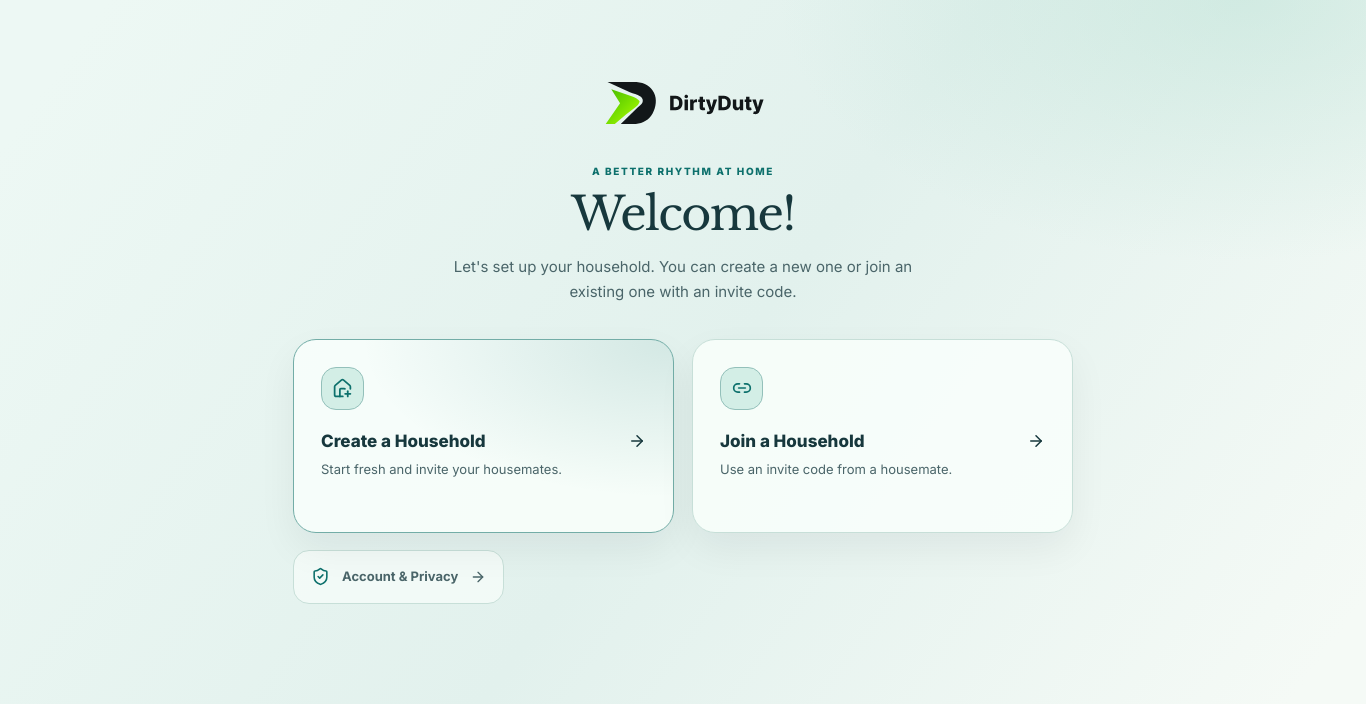
Test: household onboarding › creates a household and opens the invitation dialog in the light theme
The image size is (1366, 704).
Expected: the heading "Welcome!" is shown, left=571, top=185, right=795, bottom=242
Click the button "Create a Household Start fresh and invite your housemates.": click(484, 436) left=293, top=338, right=674, bottom=532
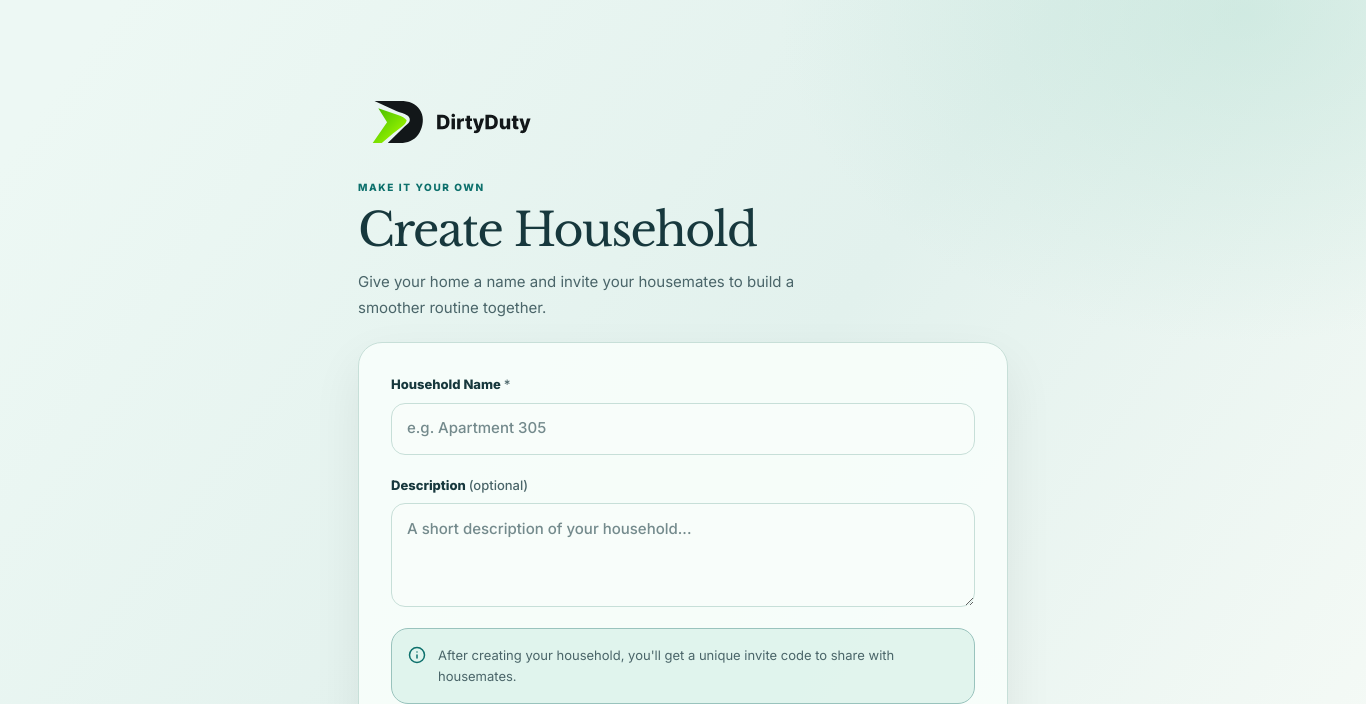
In the field labelled "Household Name *": (683, 429) left=391, top=403, right=975, bottom=455, type "  Our Place  "
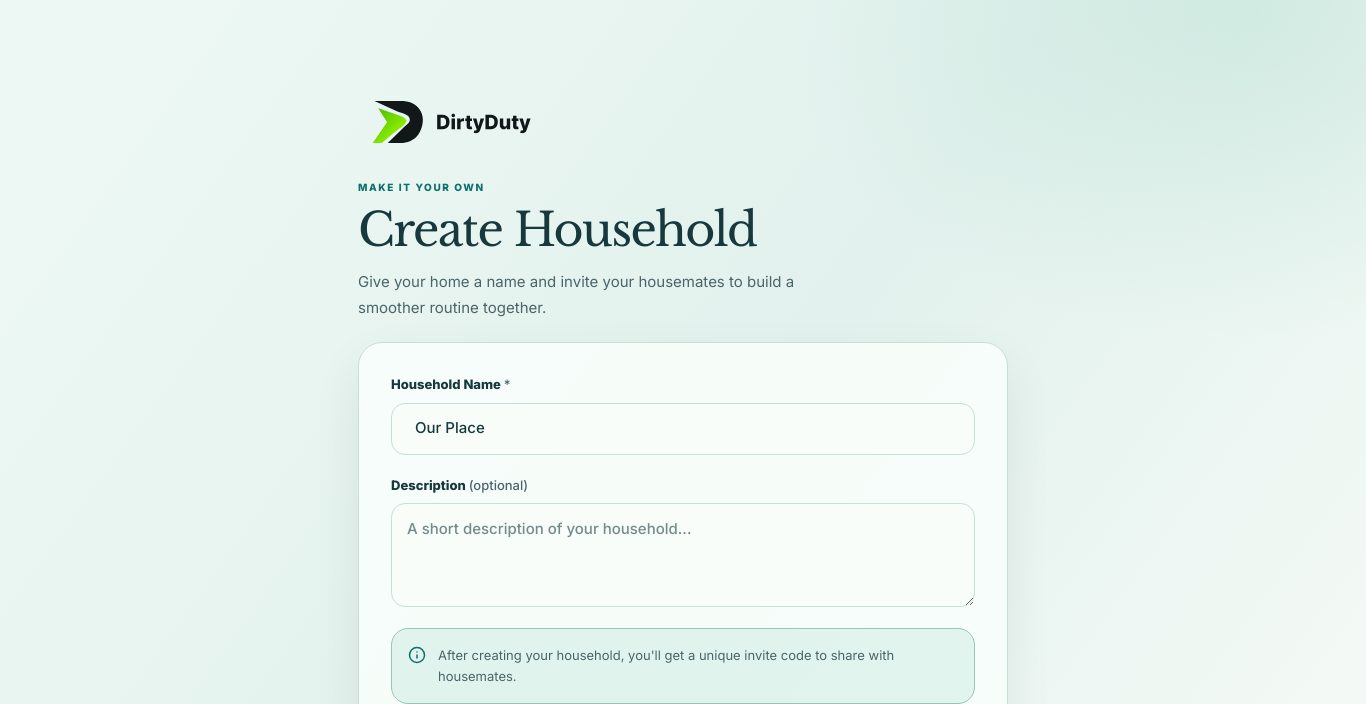
In the text box labelled "Description (optional)": (683, 555) left=391, top=503, right=975, bottom=607, type "  A welcoming home  "
(page scrolled)
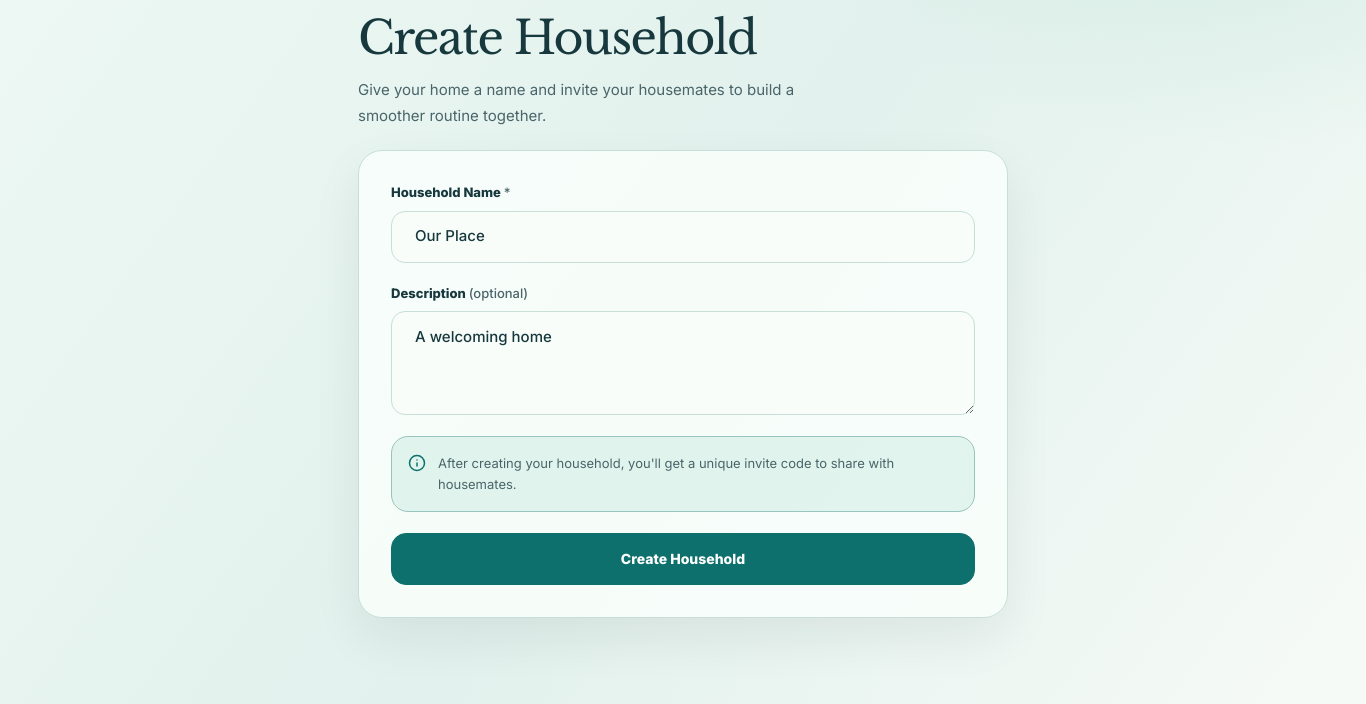
Click the button "Create Household": click(683, 559) left=391, top=533, right=975, bottom=585
(page scrolled)
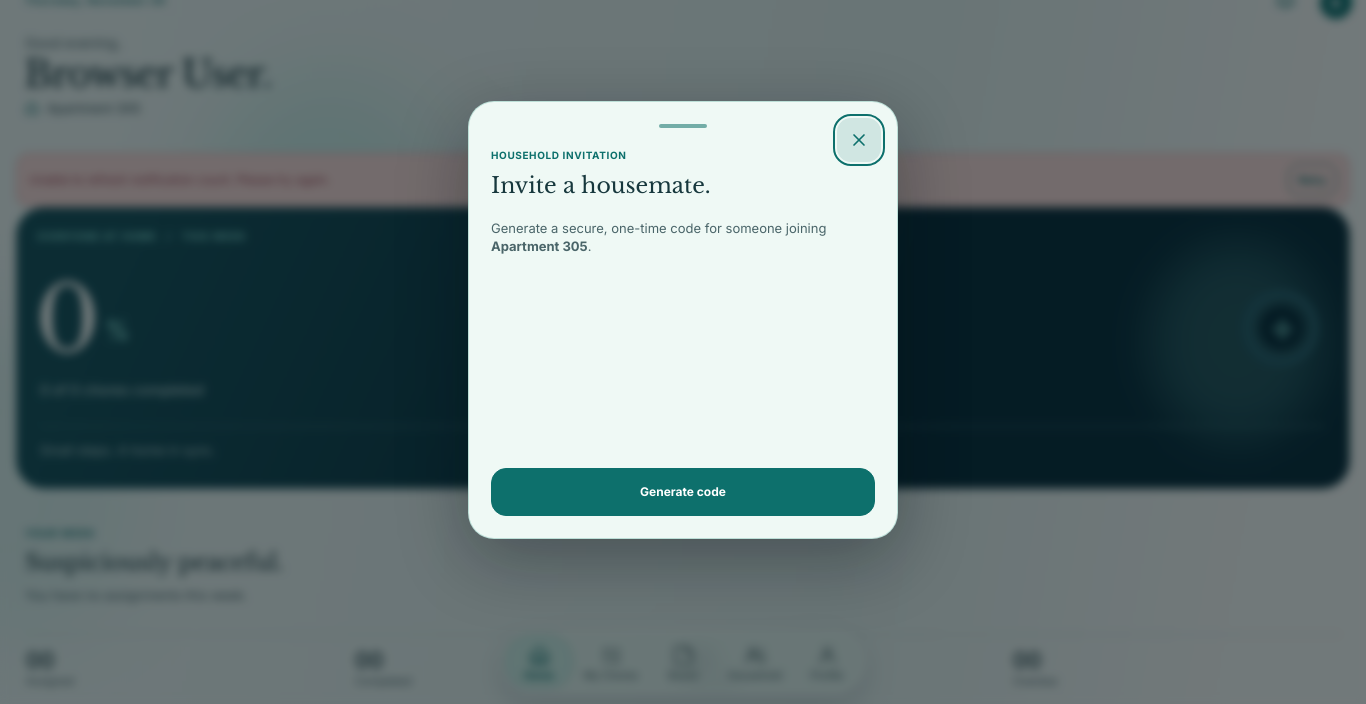
Expected: the dialog "Invite a housemate." shows "Apartment 305", left=491, top=238, right=588, bottom=254
Expected: the button "Generate code" is shown, left=491, top=468, right=875, bottom=516
